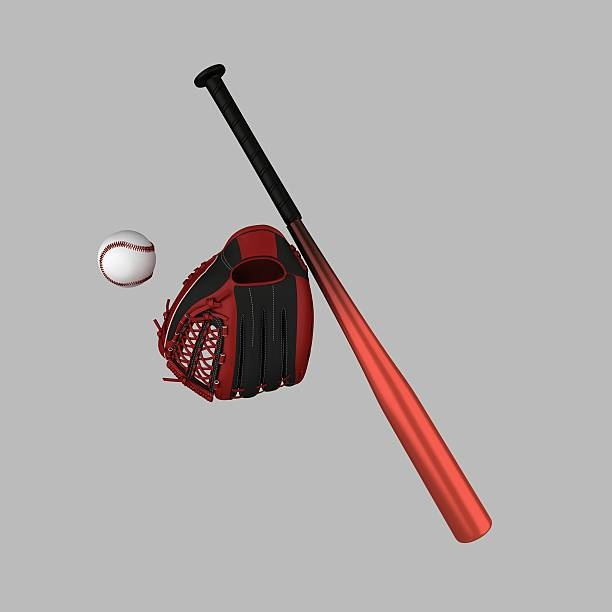bita: (200, 56, 492, 538)
